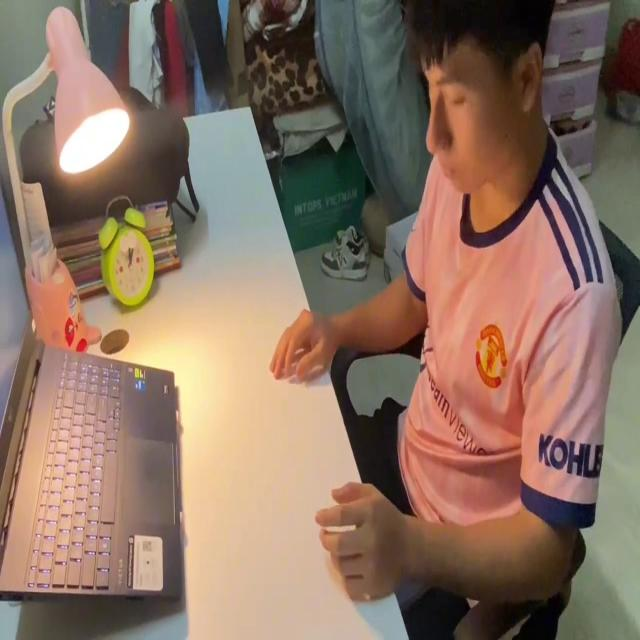laptop: (0, 174, 185, 612)
student: (268, 0, 622, 640)
